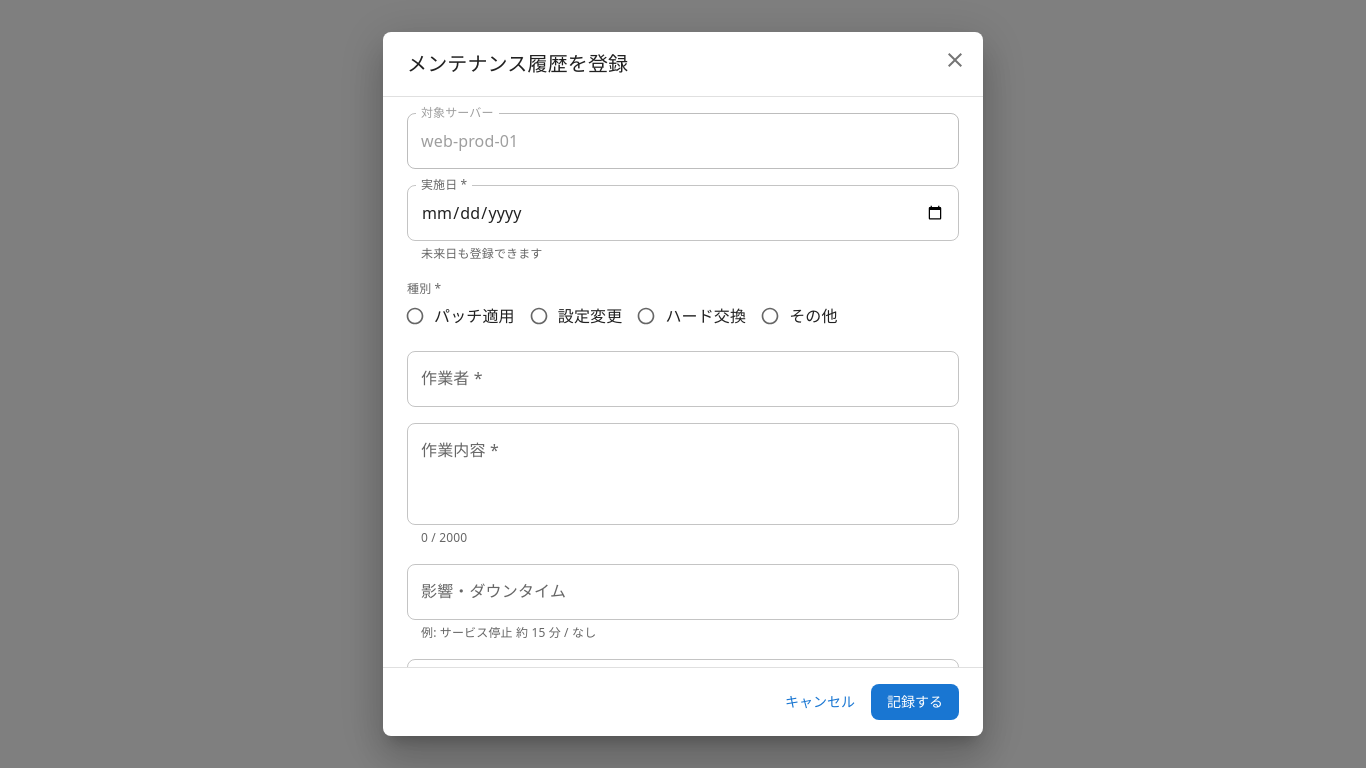
Test: MaintenanceHistoryFormModal › 対象サーバーが 404 なら上部にエラーを表示する
Type "2026-09-08" into the date field labelled "実施日 *" at (683, 213), box [407,185,959,241]
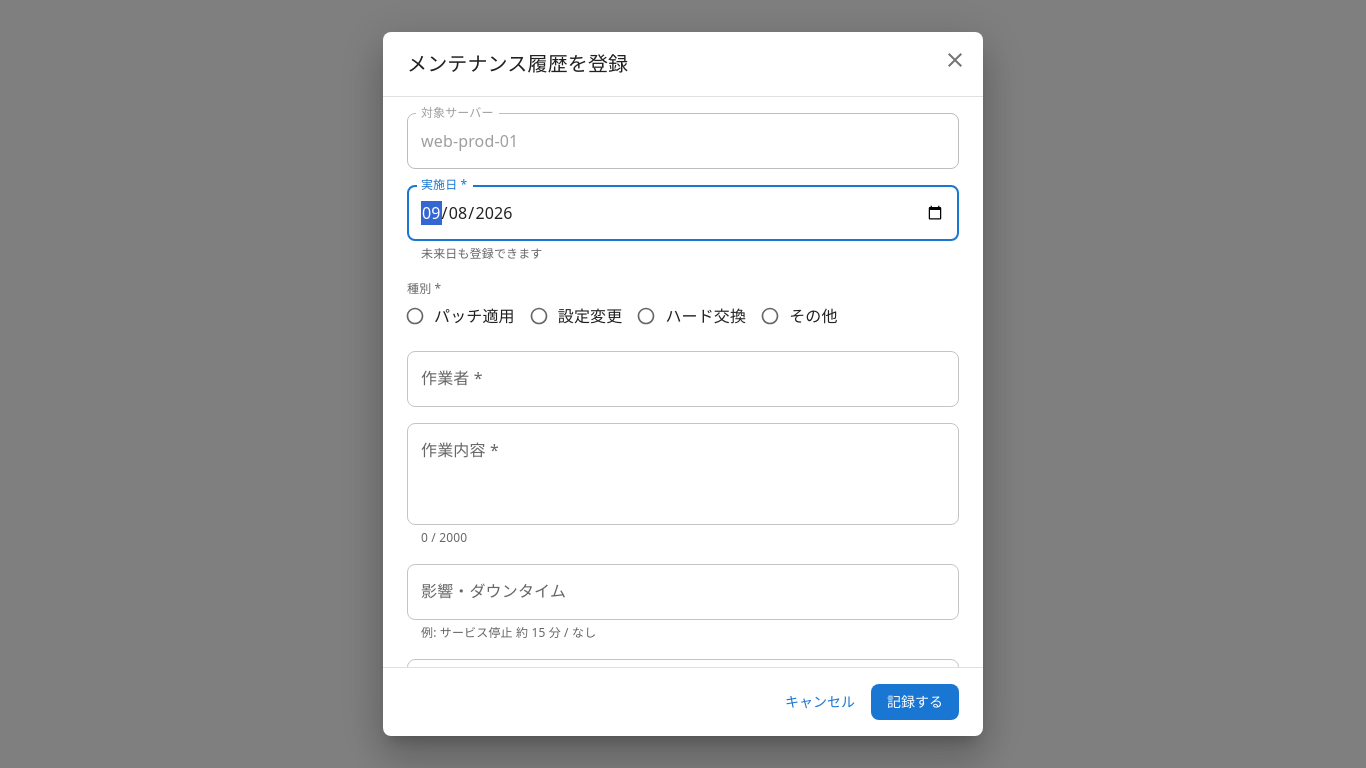
Click the radio button labelled "パッチ適用" at (460, 316), box [405,305,515,327]
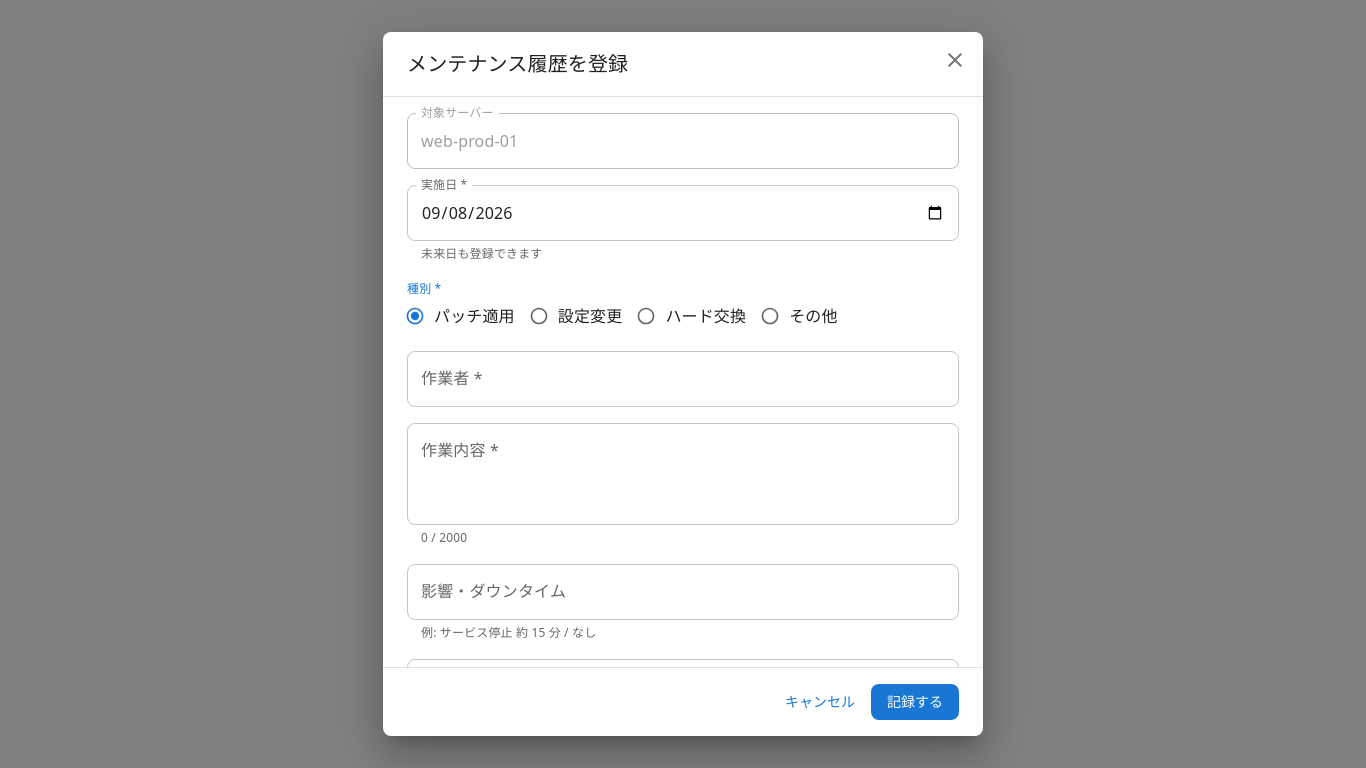
Type "ops-a" into the field labelled "作業者 *" at (683, 379), box [407,351,959,407]
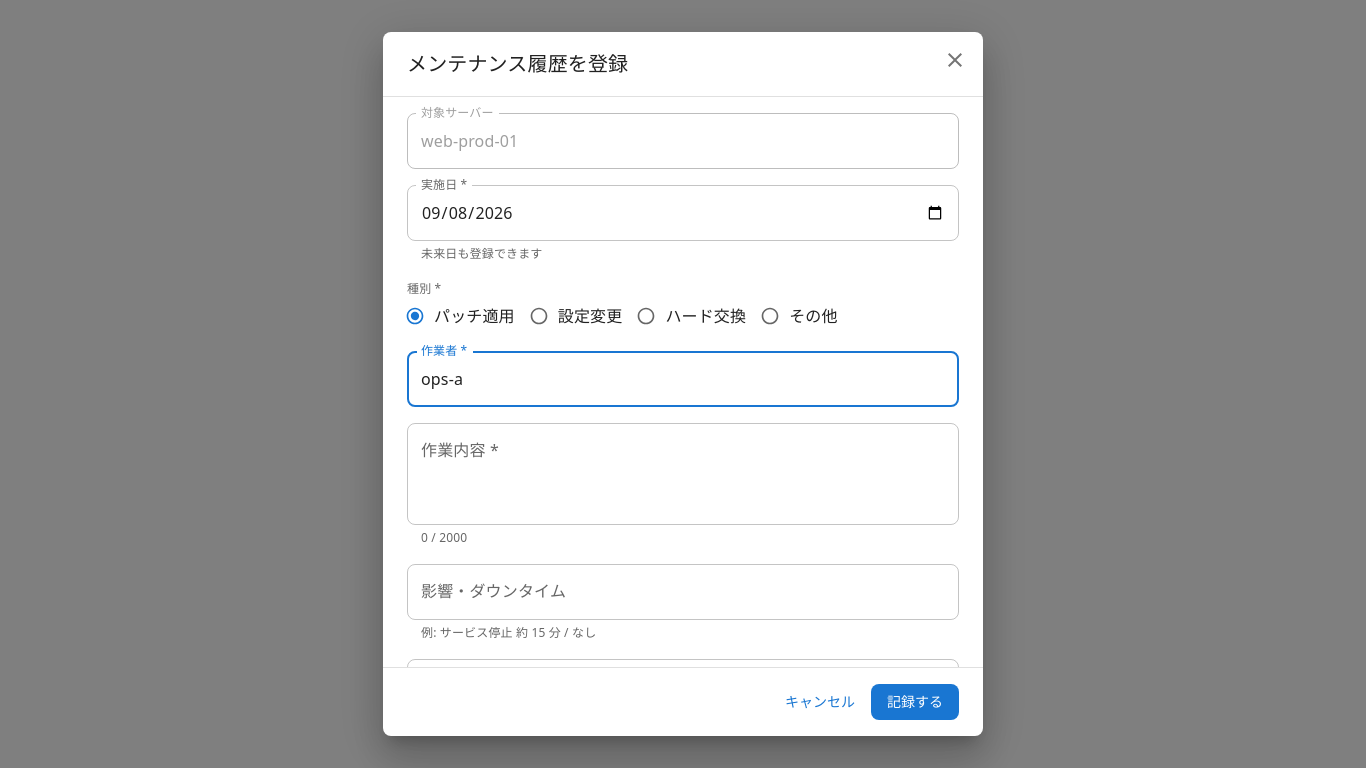
Type "セキュリティパッチ適用" into the text box labelled "作業内容 *" at (683, 474), box [421,440,945,509]
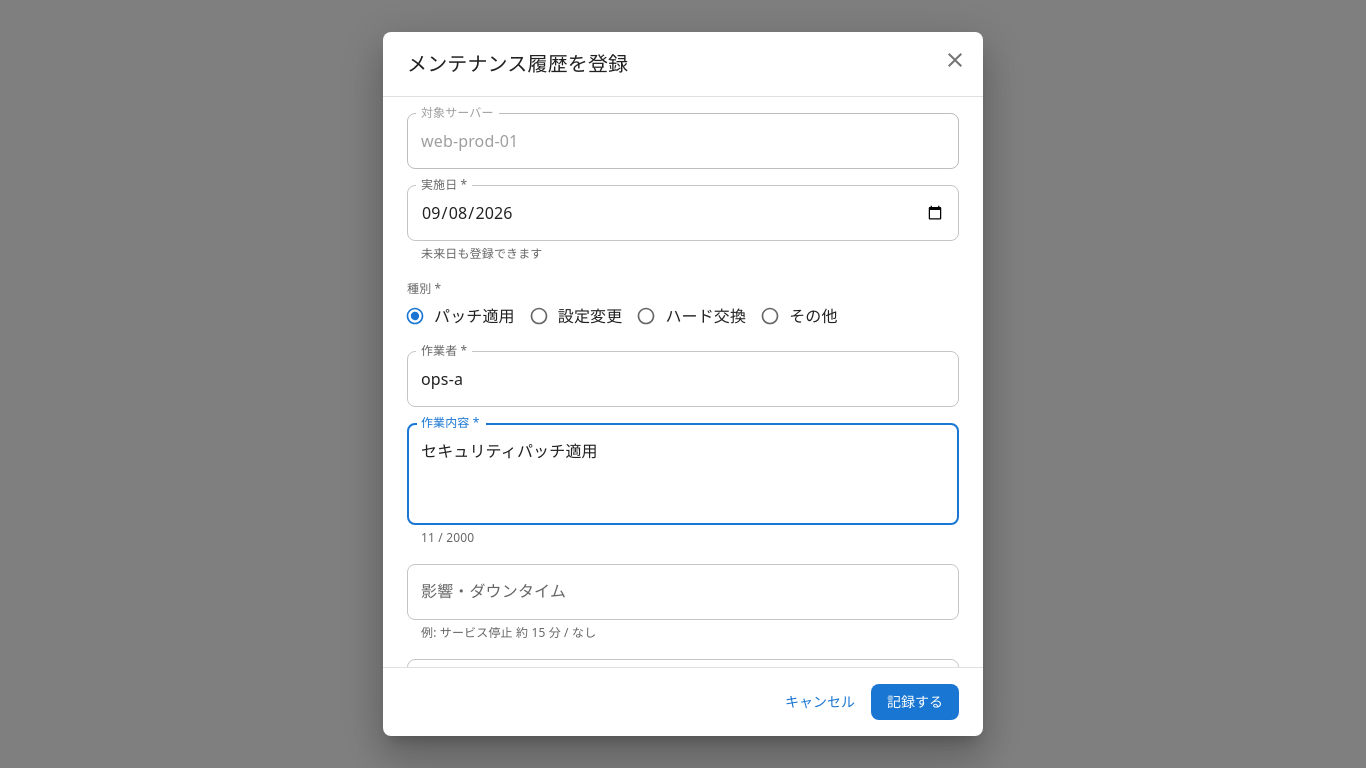
Click the button "記録する" at (915, 702), box [871,684,959,720]
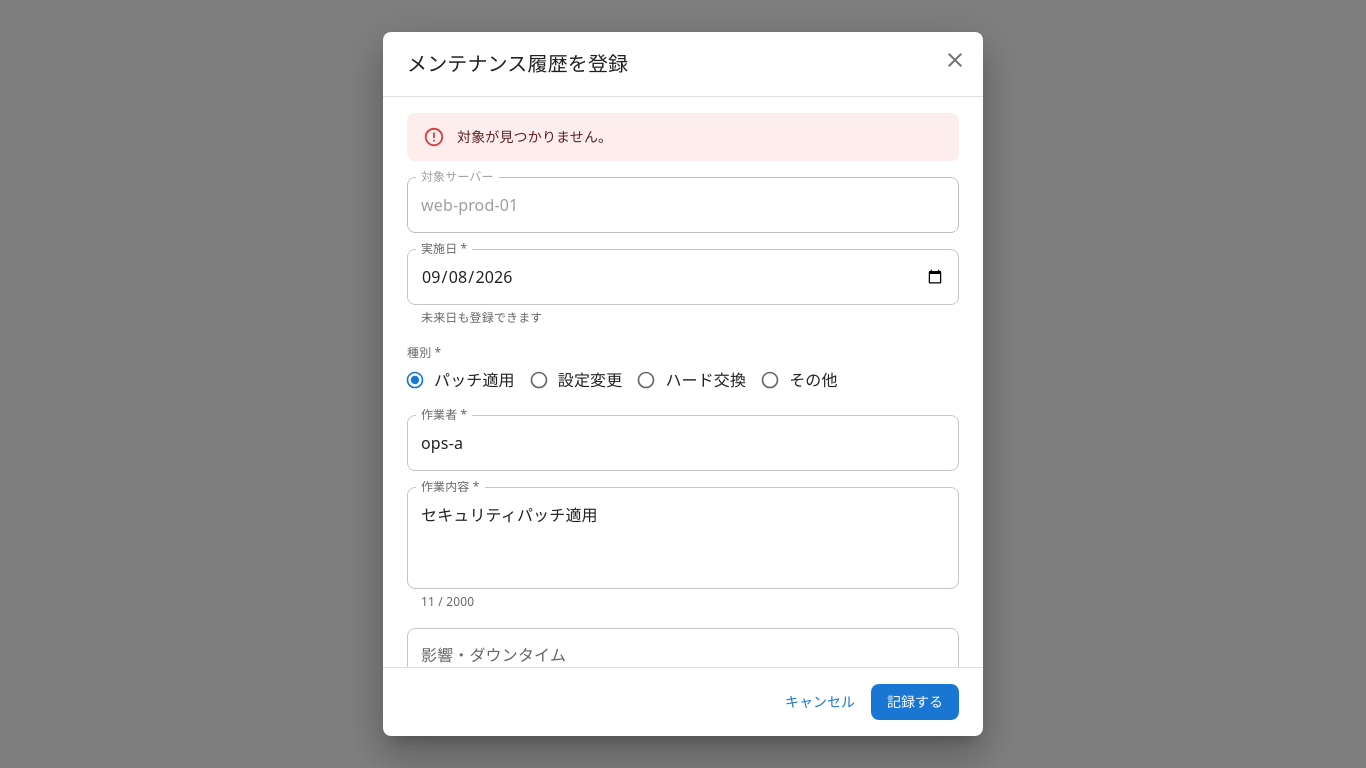
Expected: the text "対象が見つかりません。" is shown, [457,127,612,146]
